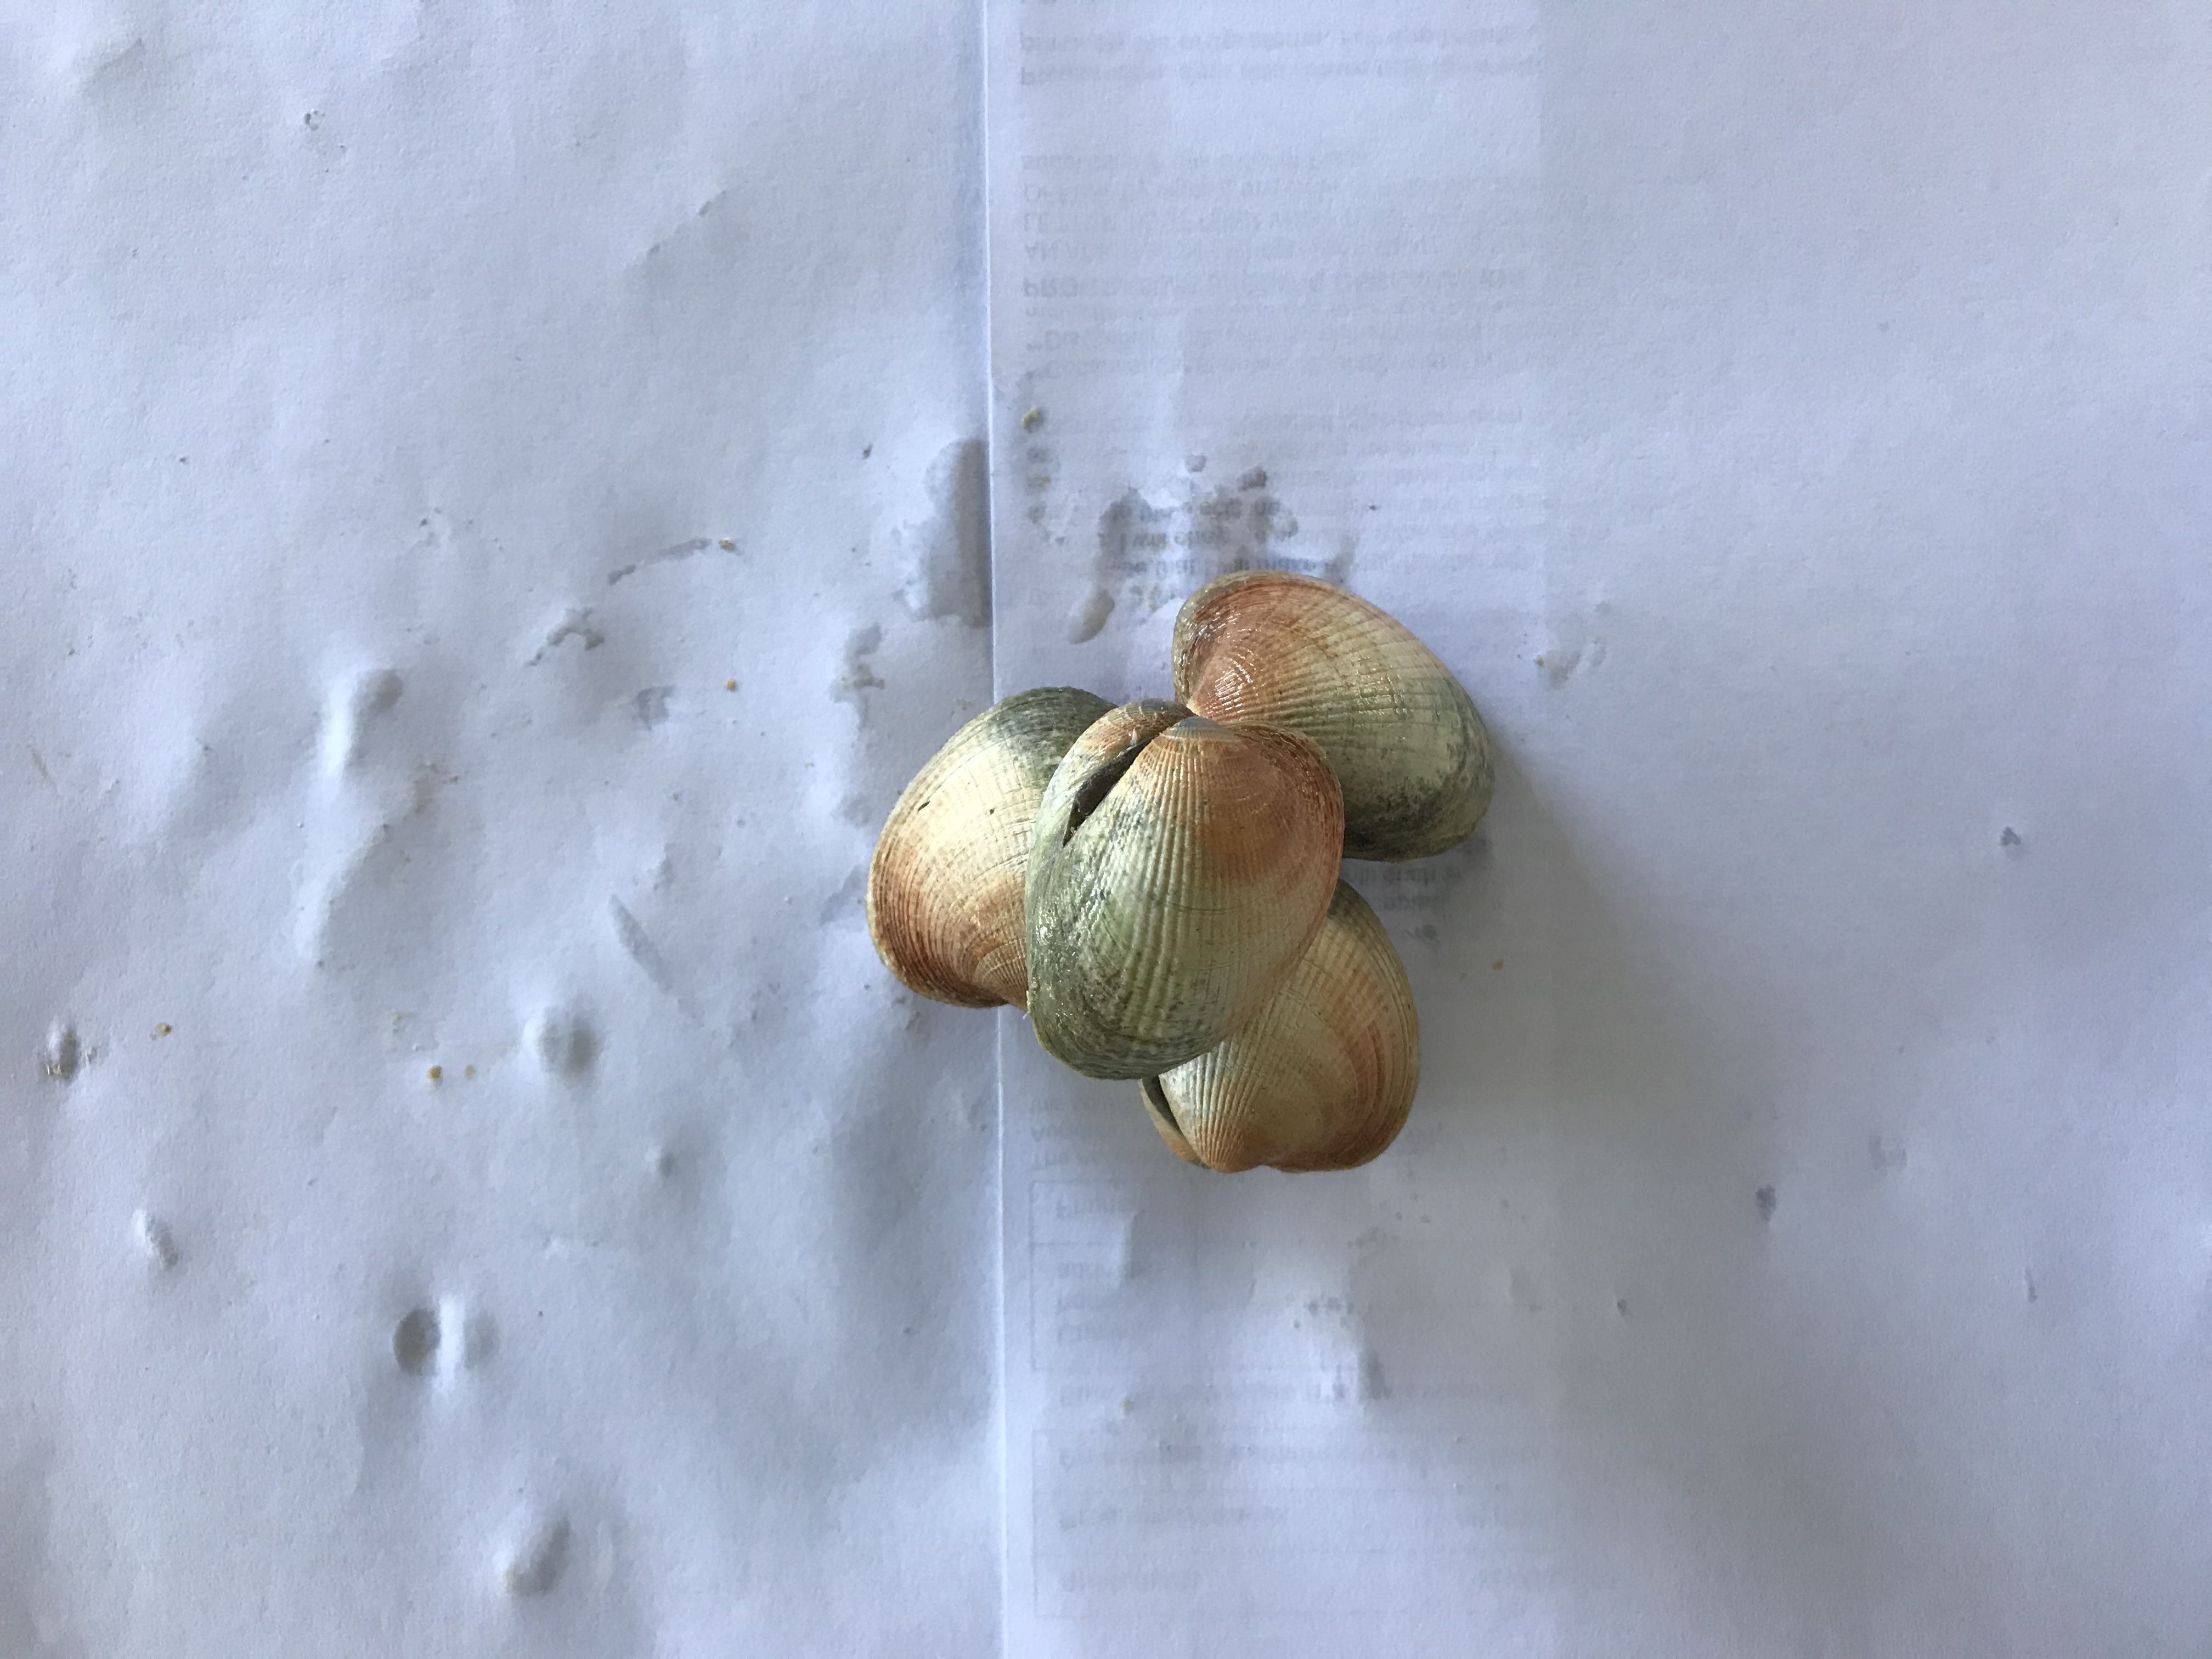cockle: (1014, 695, 1348, 1086), (1163, 568, 1503, 871), (1129, 884, 1430, 1180), (866, 683, 1118, 1021)
